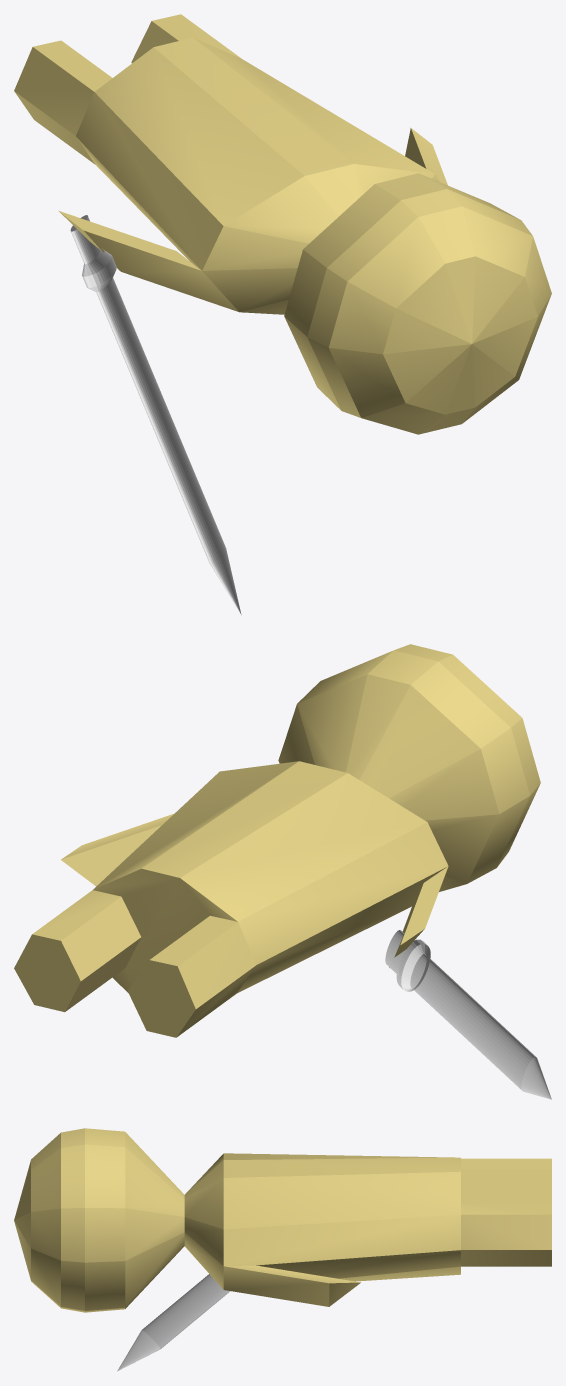
The model's file is warrior.glb.
3 renders of one model, top to bottom at view 1: azimuth 30°, elevation 25°; view 2: azimuth 150°, elevation 25°; view 3: azimuth 270°, elevation 25°, orthographic. The views are drawn at different scales.
Visible parts, largest first — view 1: Цилиндр, Цилиндр.001; view 2: Цилиндр, Цилиндр.001; view 3: Цилиндр, Цилиндр.001.
Boxes of the visible parts, x1,y1,x2,y2 form: Цилиндр: (14,14,551,434); Цилиндр.001: (70,215,241,614); Цилиндр: (14,644,540,1037); Цилиндр.001: (385,930,551,1099); Цилиндр: (14,1128,551,1312); Цилиндр.001: (117,1274,230,1371).
Size of the model in its own units: 0.3997 by 0.4346 by 0.7234.
